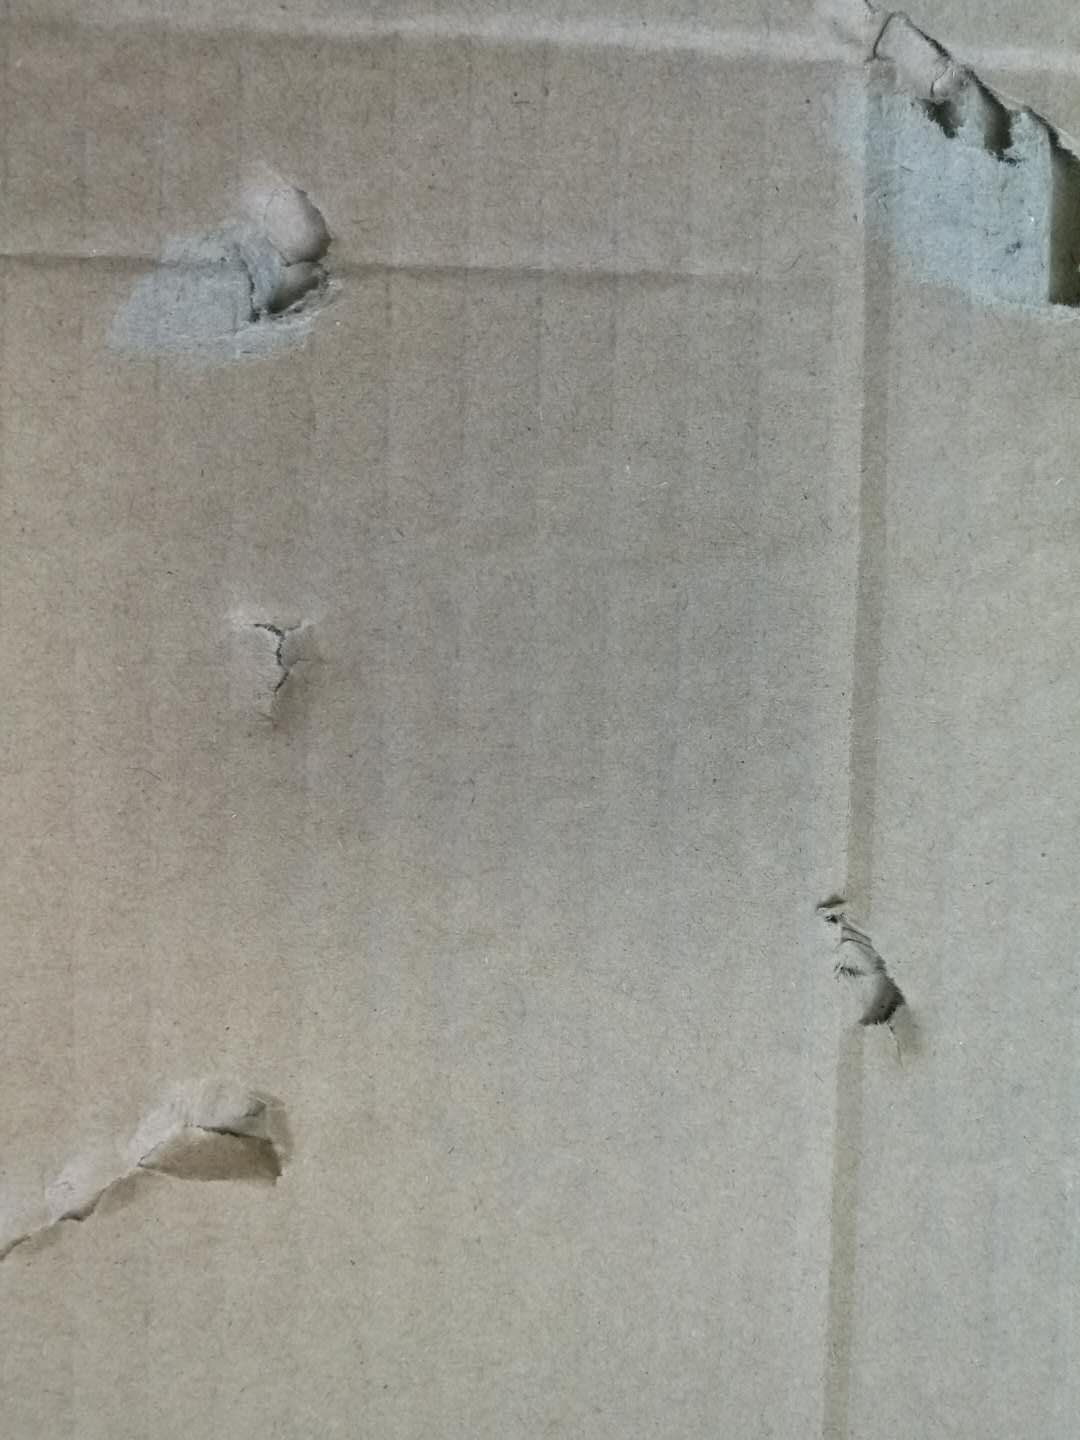defect: (798, 2, 994, 1440), (1, 207, 843, 344), (62, 2, 1080, 108), (781, 1, 1080, 344), (2, 1045, 328, 1290), (99, 128, 379, 407), (792, 876, 951, 1101), (200, 573, 376, 772)
